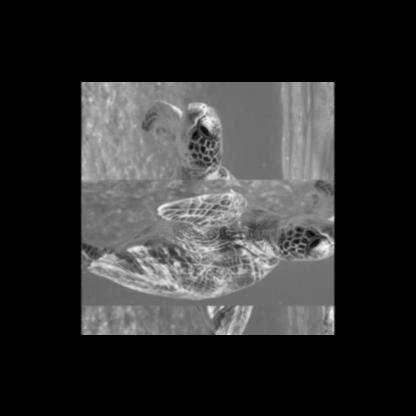turtle: (101, 137, 307, 333)
